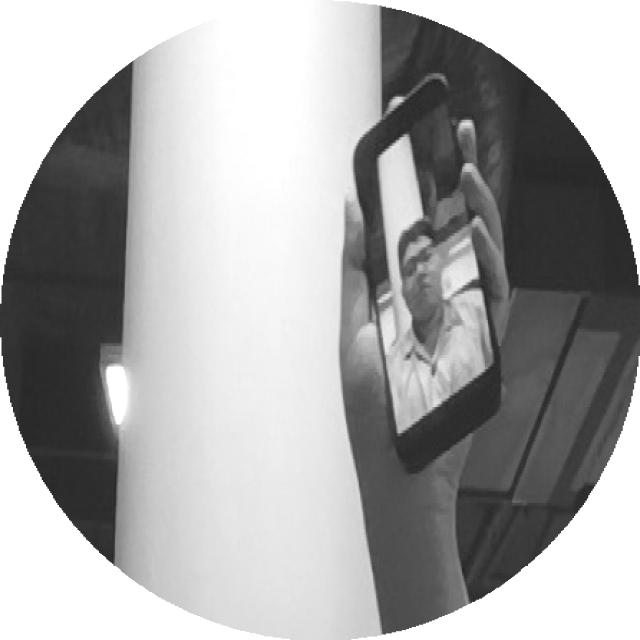fake: (324, 67, 507, 489), (344, 67, 514, 483)
